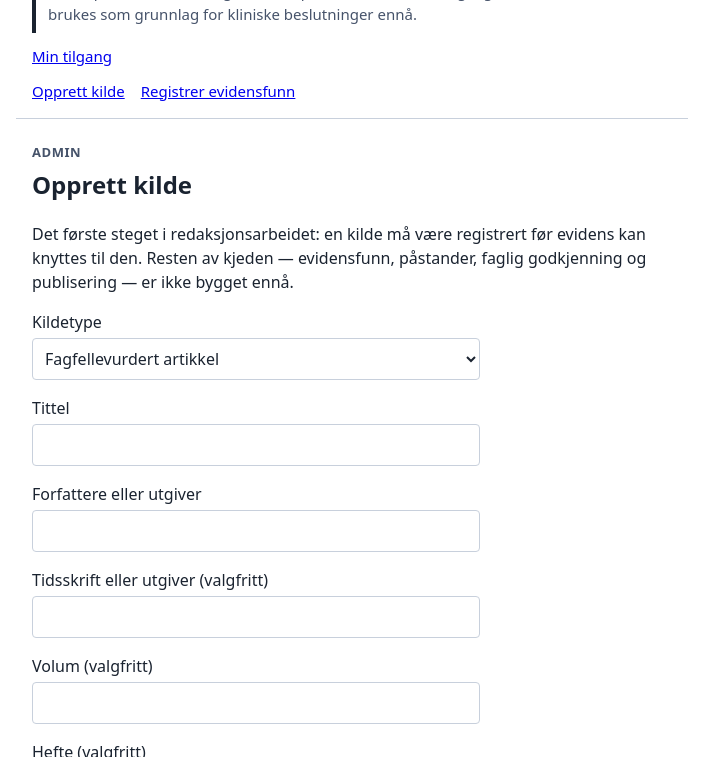
Test: Opprett kilde — publiseringsdato › valgt presisjon uten dato: sier fra, og sender ingenting
The image size is (705, 757).
Type "Testkilde fra skjema" into the field labelled "Tittel" at point(256, 445), box [32,424,480,466]
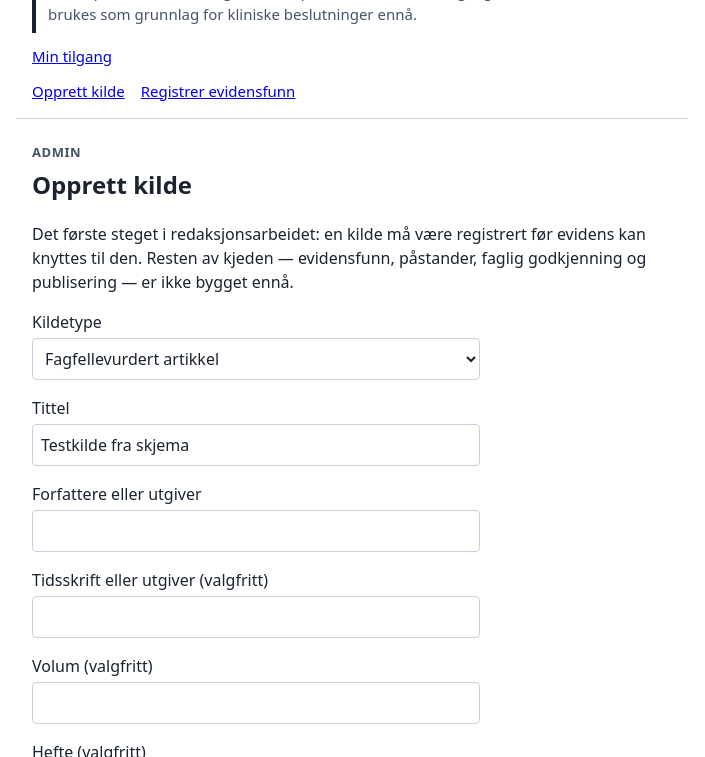
Type "Testforfatter" into the field labelled "Forfattere eller utgiver" at point(256, 531), box [32,510,480,552]
(page scrolled)
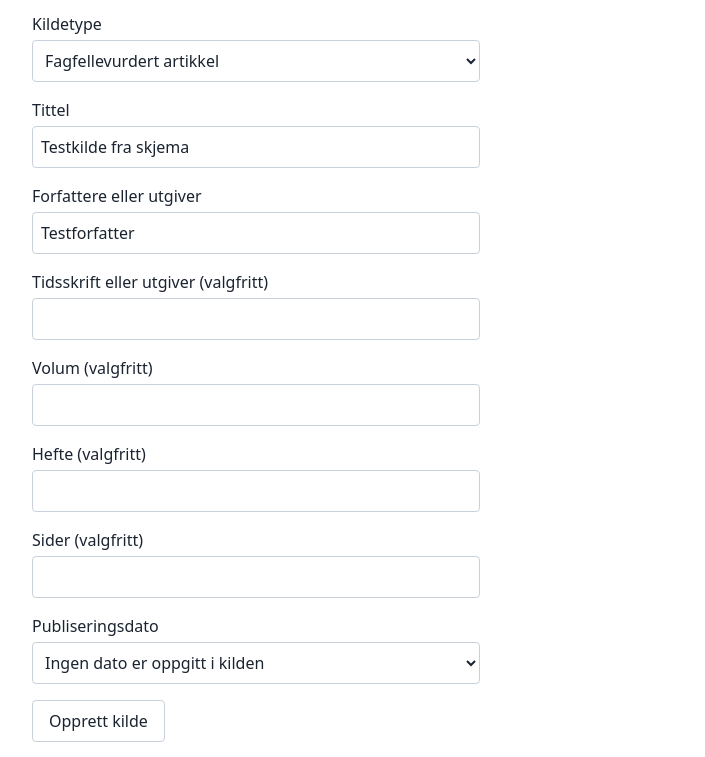
Select "Bare året er kjent" in the dropdown labelled "Publiseringsdato" at point(256, 663), box [32,642,480,684]
(page scrolled)
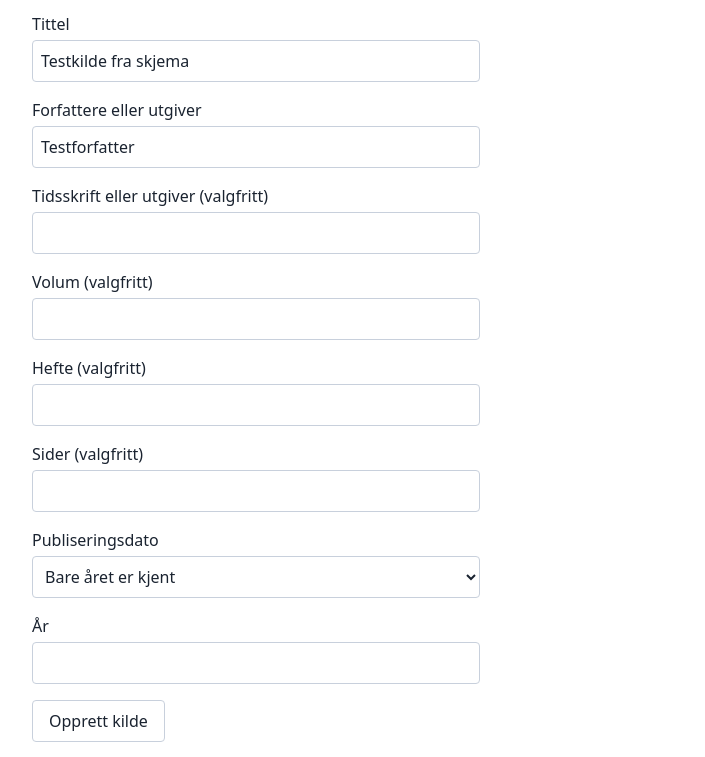
Click the button "Opprett kilde" at point(98, 721), box [32,700,165,742]
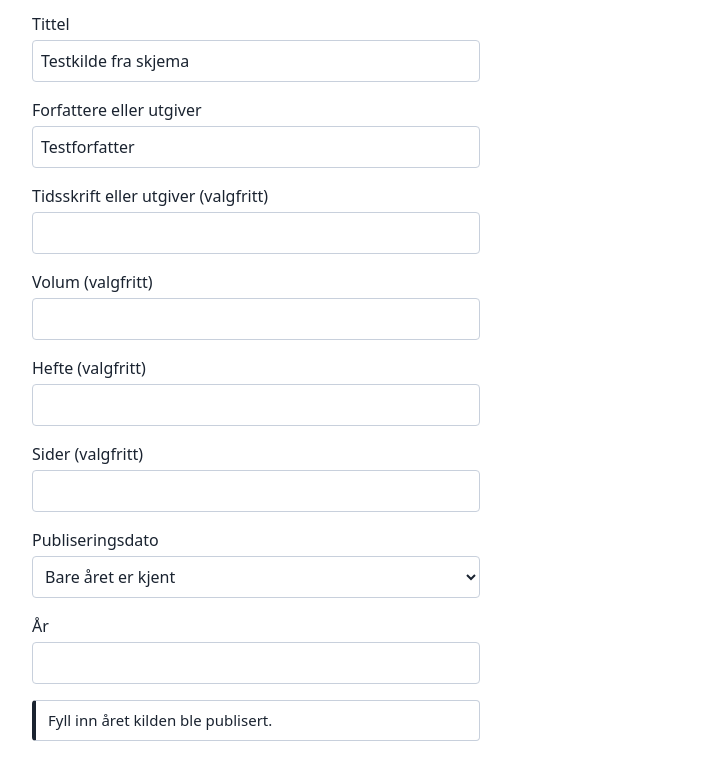
Expected: the message shows "Fyll inn året", [48,710,272,730]
